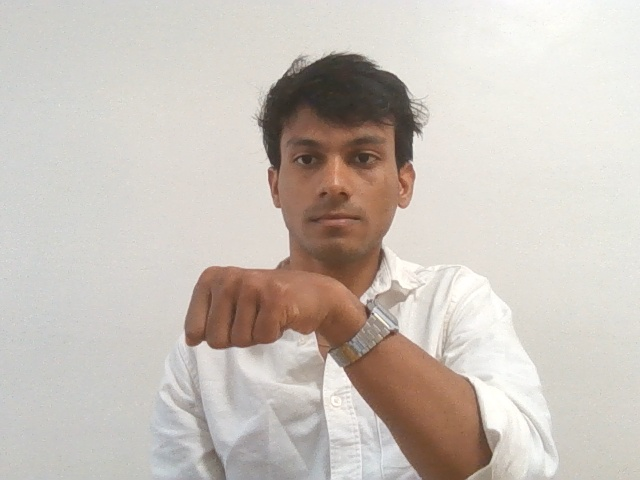Yes: (177, 253, 333, 361)
